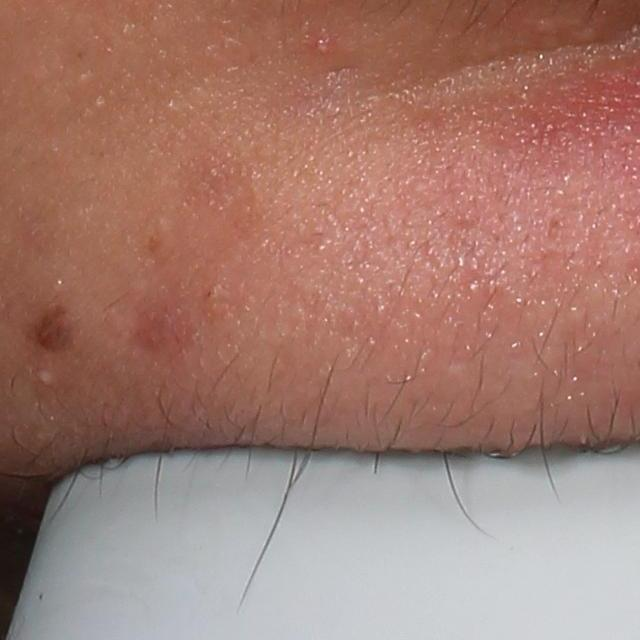nevus: (29, 298, 82, 358)
pustule: (26, 366, 65, 393)
